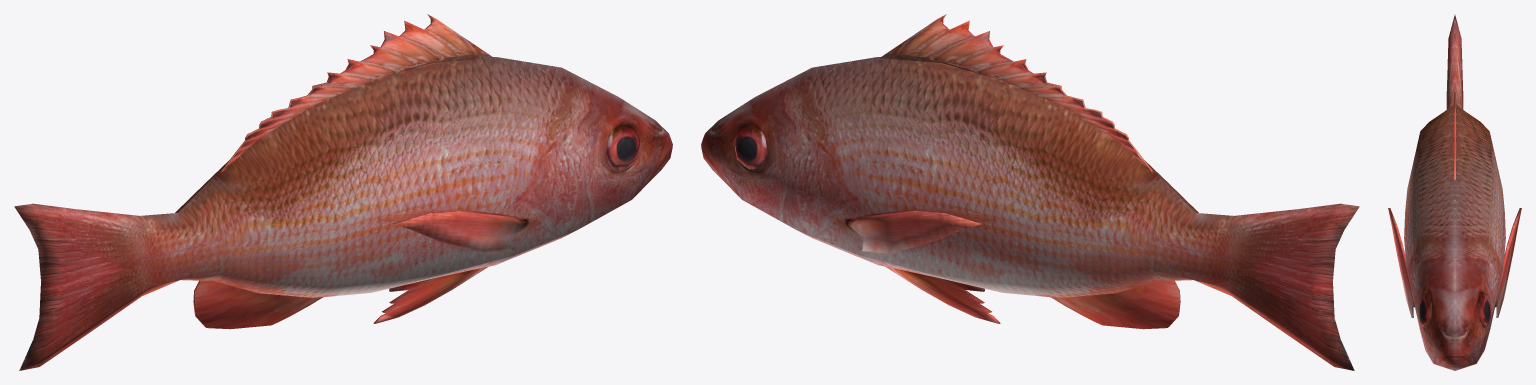
File: red_snapper.glb
The picture shows the model from 3 angles, left to right: view 1: azimuth 30°, elevation 25°; view 2: azimuth 150°, elevation 25°; view 3: azimuth 270°, elevation 25°; orthographic projection. The views are drawn at different scales.
Visible parts, largest first — view 1: Fish_body, Fin_1, Fin_4, Fin_2, Fin_3, Fish_eye; view 2: Fish_body, Fin_1, Fin_4, Fin_2, Fin_3, Fish_eye; view 3: Fish_body, Fin_2, Fish_eye, Fin_1.
Boxes of the visible parts, left/top/right/bottom form: Fish_body: left=14, top=57, right=672, bottom=370; Fin_1: left=220, top=14, right=493, bottom=172; Fin_4: left=193, top=280, right=322, bottom=329; Fin_2: left=392, top=211, right=525, bottom=253; Fin_3: left=373, top=266, right=488, bottom=323; Fish_eye: left=606, top=124, right=640, bottom=169; Fish_body: left=701, top=57, right=1359, bottom=370; Fin_1: left=880, top=14, right=1153, bottom=172; Fin_4: left=1051, top=280, right=1180, bottom=329; Fin_2: left=848, top=211, right=981, bottom=253; Fin_3: left=885, top=266, right=1000, bottom=323; Fish_eye: left=733, top=124, right=767, bottom=169; Fish_body: left=1404, top=15, right=1505, bottom=370; Fin_2: left=1388, top=208, right=1521, bottom=317; Fish_eye: left=1418, top=291, right=1491, bottom=328; Fin_1: left=1454, top=92, right=1455, bottom=179.
Bounding box in the file's own units: 1 × 0.4296 × 0.2145.
1 material, 1 textured.
